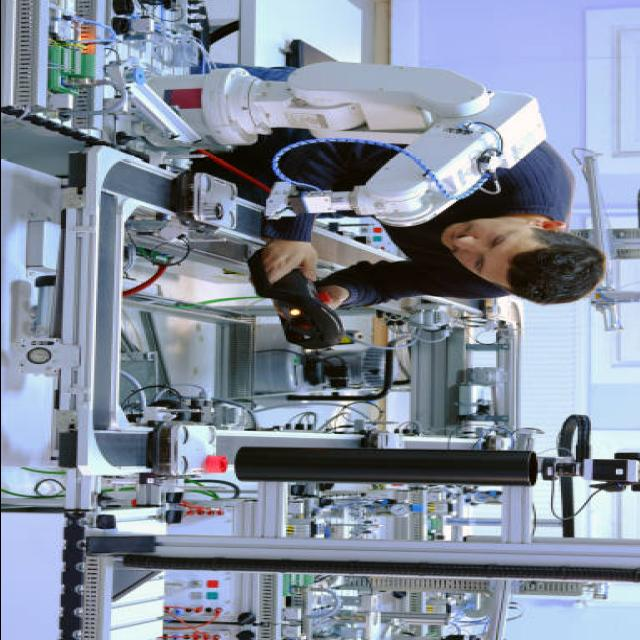Robotic-arm: (178, 57, 552, 233)
